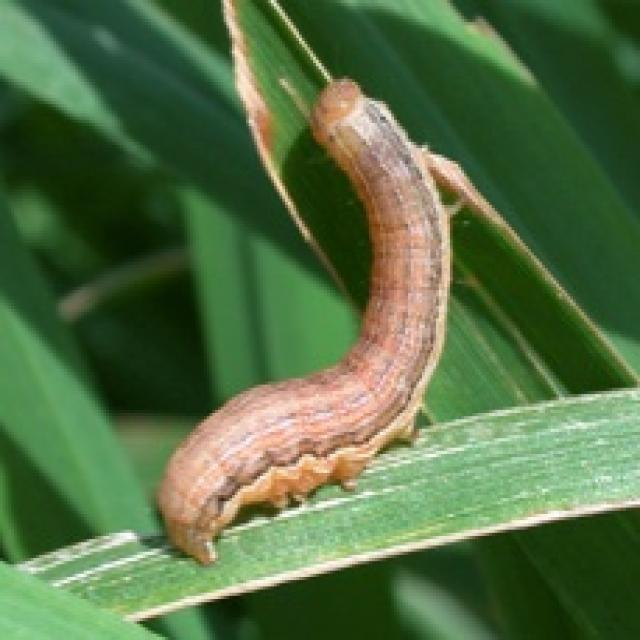pest-armyworm: (151, 72, 456, 578)
